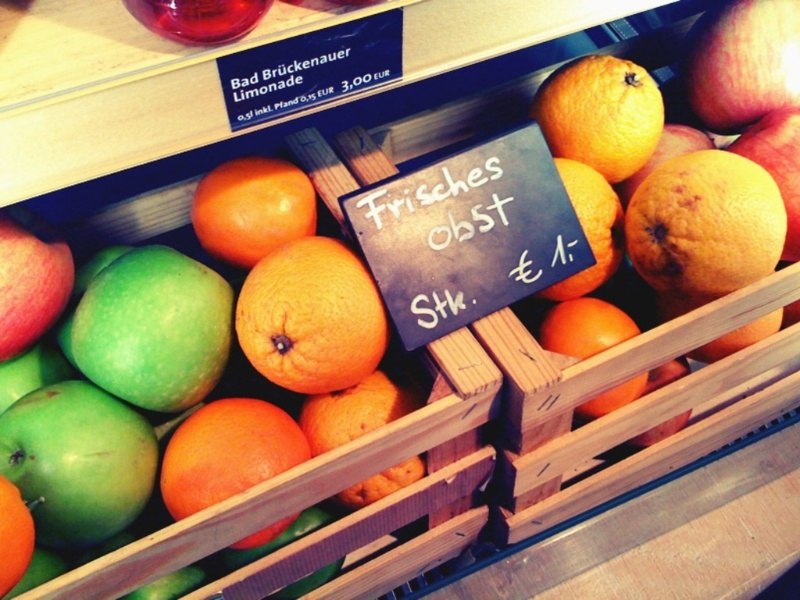apple: (59, 245, 231, 411), (2, 380, 157, 550), (687, 2, 800, 130)
